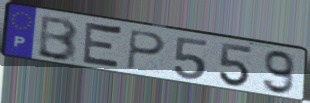5: (217, 40, 255, 89), (172, 36, 210, 81)
9: (262, 49, 296, 96)
B: (35, 14, 80, 63)
E: (80, 19, 125, 72)
P: (126, 28, 168, 72)
